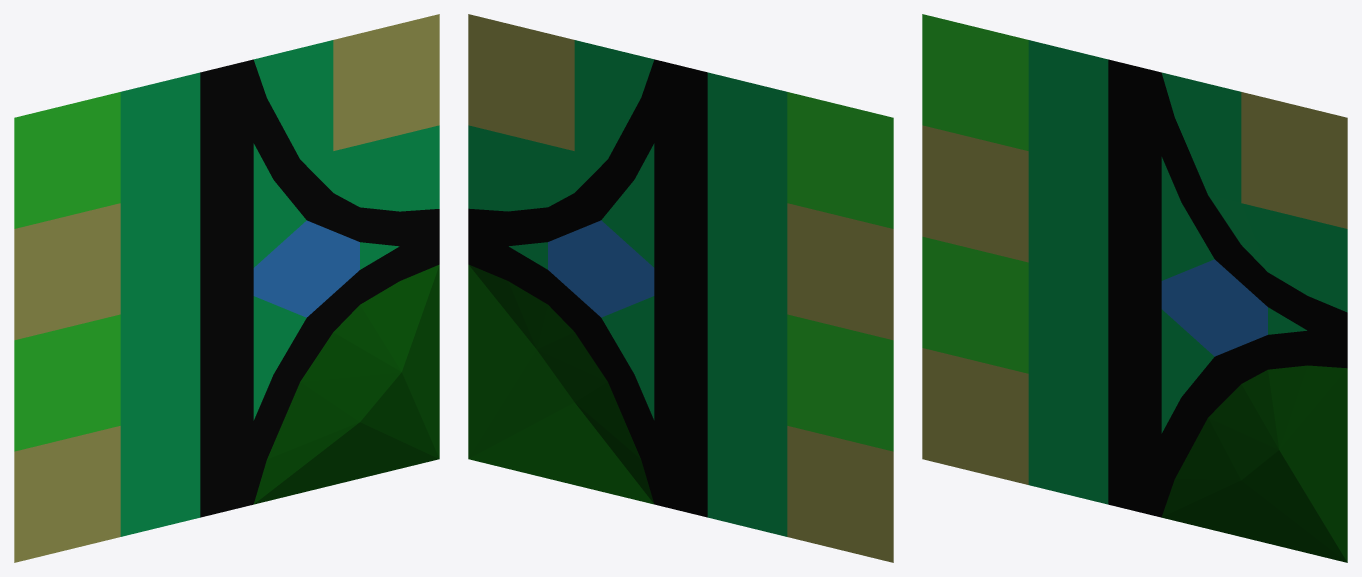
File: tiles3_3.obj
3 renders of one model, left to right at view 1: azimuth 30°, elevation 25°; view 2: azimuth 150°, elevation 25°; view 3: azimuth 330°, elevation 25°, orthographic.
Bounding box in the file's own units: 40.96 × 40.96 × 2.56.
